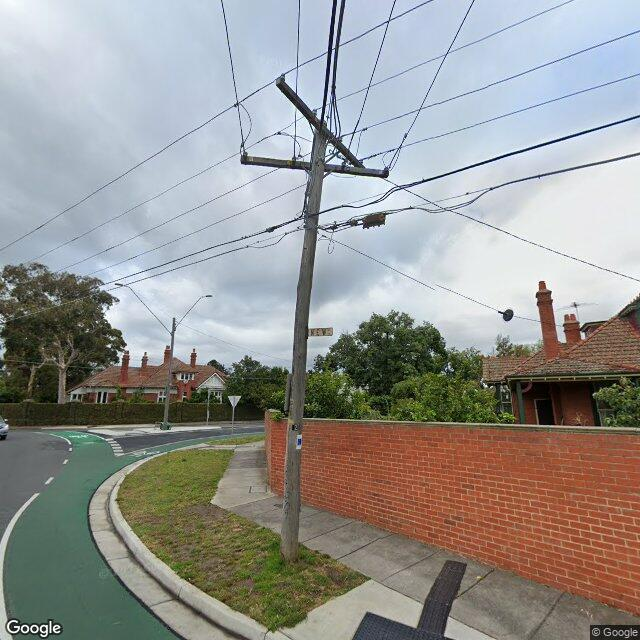crossarm: (276, 78, 365, 170), (241, 155, 388, 178)
streetlight: (114, 283, 172, 335), (174, 295, 212, 331)
timber-pole: (279, 119, 327, 564), (164, 318, 175, 424)
